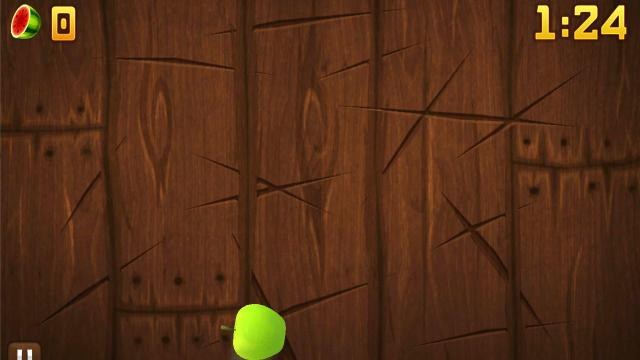fruit: (215, 303, 286, 360)
